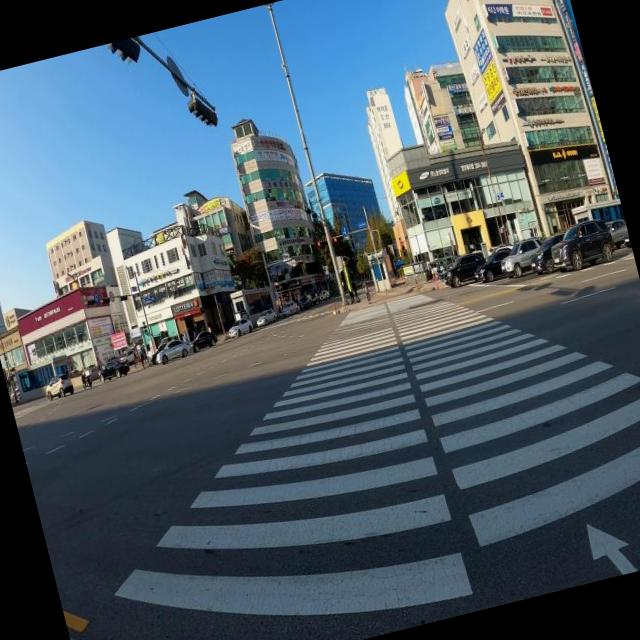crosswalk: (108, 292, 640, 630), (221, 308, 335, 342), (13, 382, 105, 420), (334, 285, 375, 298)
